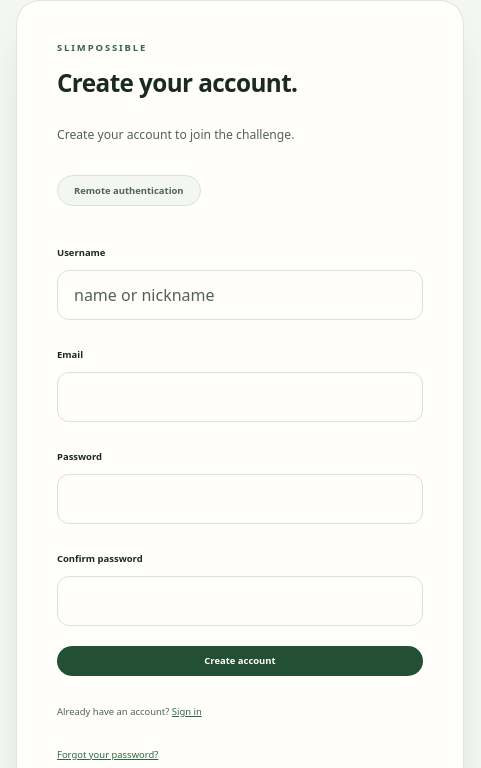
Test case: RegisterPage › validates fields and password confirmation accessibly
The image size is (481, 768).
Submit the form named "Registration form", box [57,238,423,676]
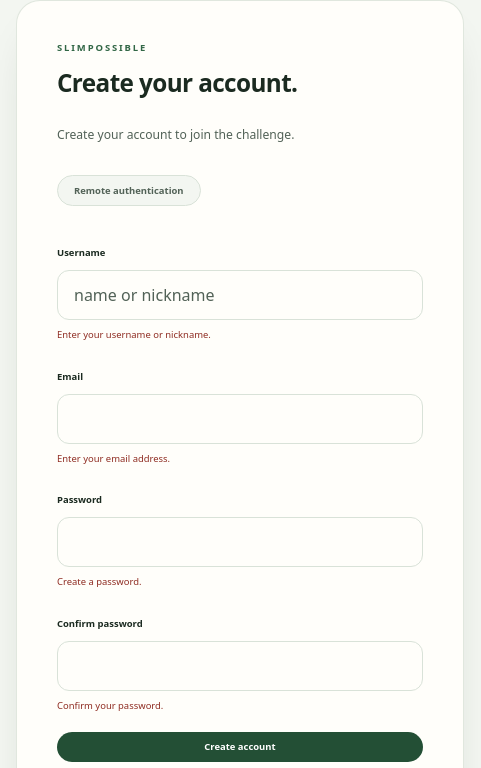
Expected: the text "Enter your username or nickname." is shown, [57,328,211,341]
Expected: the text "Enter your email address." is shown, [57,452,170,465]
Expected: the text "Create a password." is shown, [57,575,142,588]
Type "Participant" into the field labelled "Username". click: (240, 295)
box: [57,270,423,320]
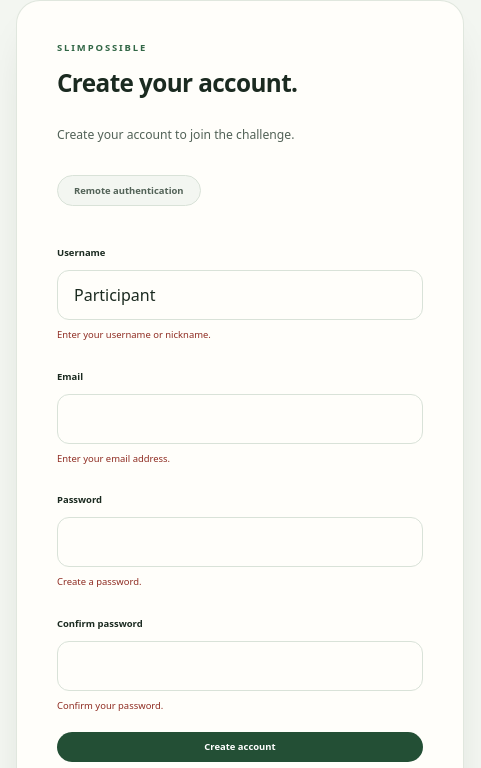
Type "person@example.com" into the field labelled "Email". click: (240, 419)
box: [57,394,423,444]
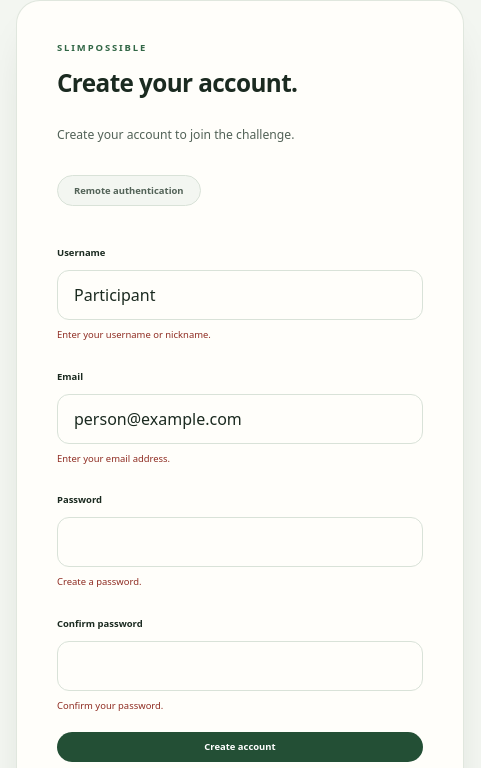
Type "password123" into the password field labelled "Password". click: (240, 542)
box: [57,517,423,567]
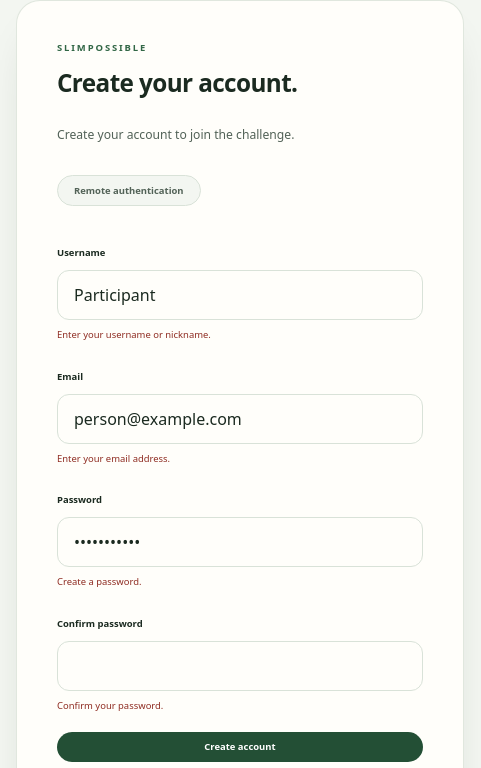
Type "password321" into the password field labelled "Confirm password". click: (240, 666)
box: [57,641,423,691]
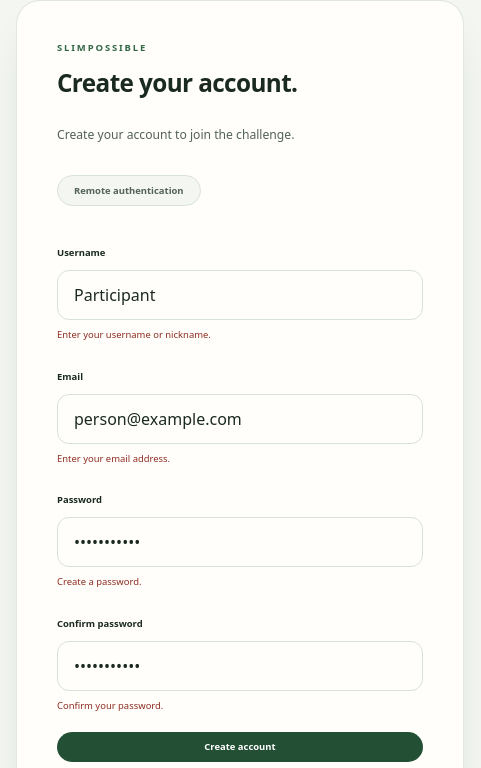
Submit the form named "Registration form", box [57,238,423,762]
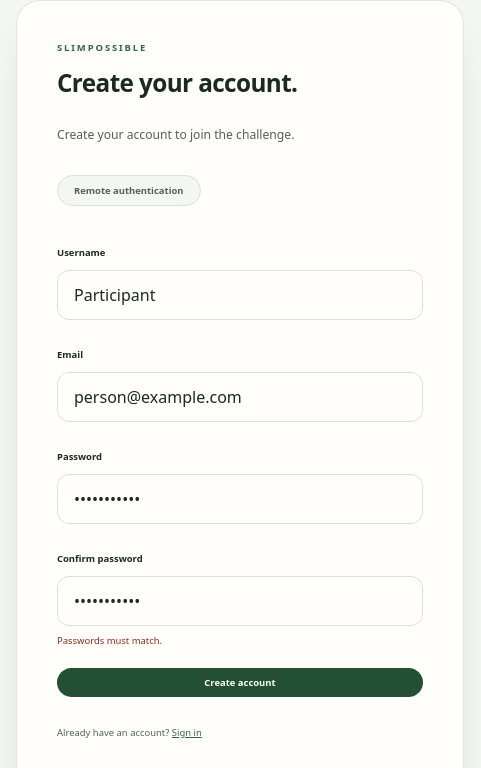
Expected: the text "Passwords must match." is shown, [57,634,162,647]
